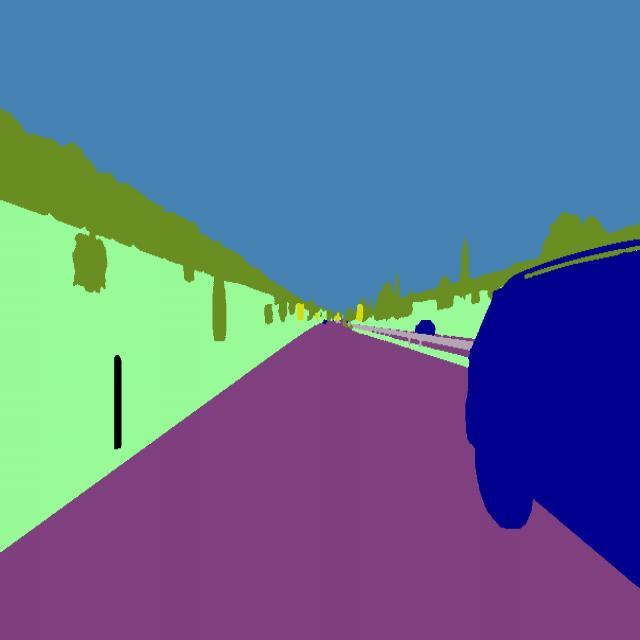safe: (412, 316, 438, 336)
unsafe: (463, 235, 640, 600)
